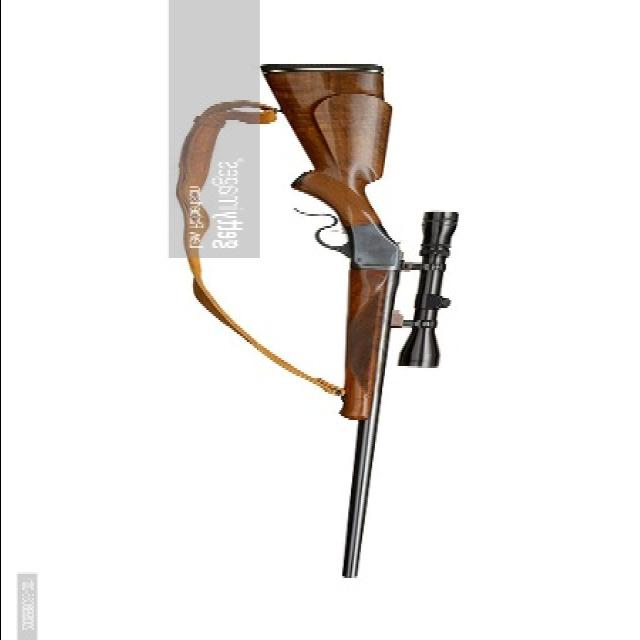rifle: (254, 61, 466, 585)
